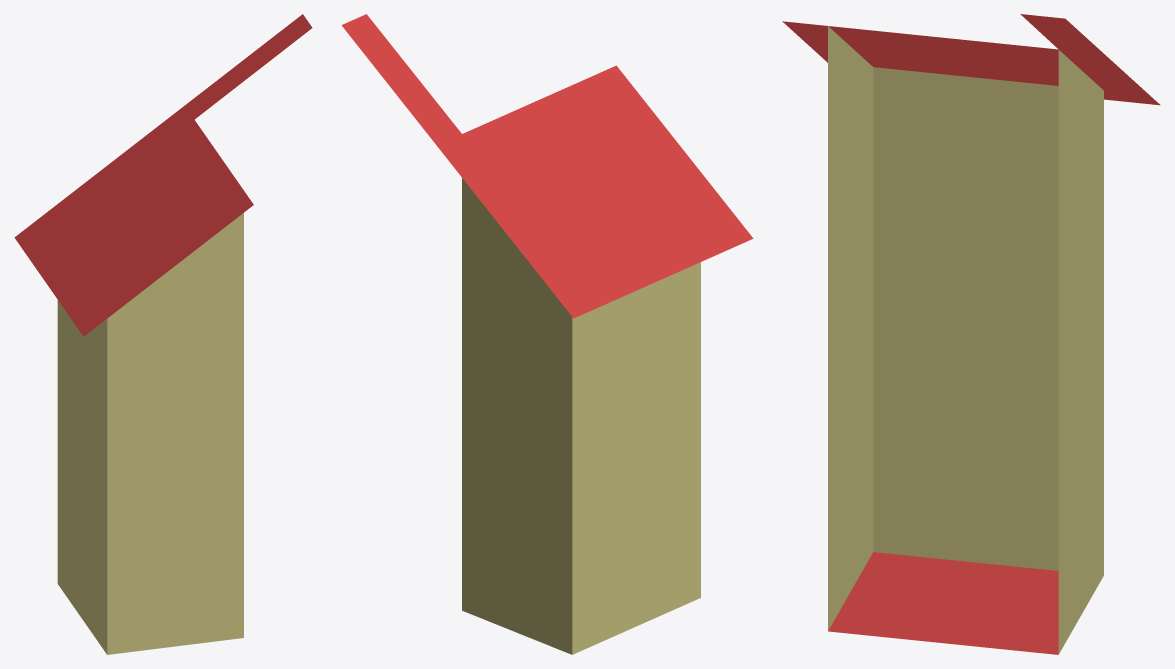
3 renders of one model, left to right at view 1: azimuth 30°, elevation 25°; view 2: azimuth 150°, elevation 25°; view 3: azimuth 270°, elevation 25°, orthographic. The views are drawn at different scales.
Size of the model in its own units: 7.53 by 6.02 by 12.45.
